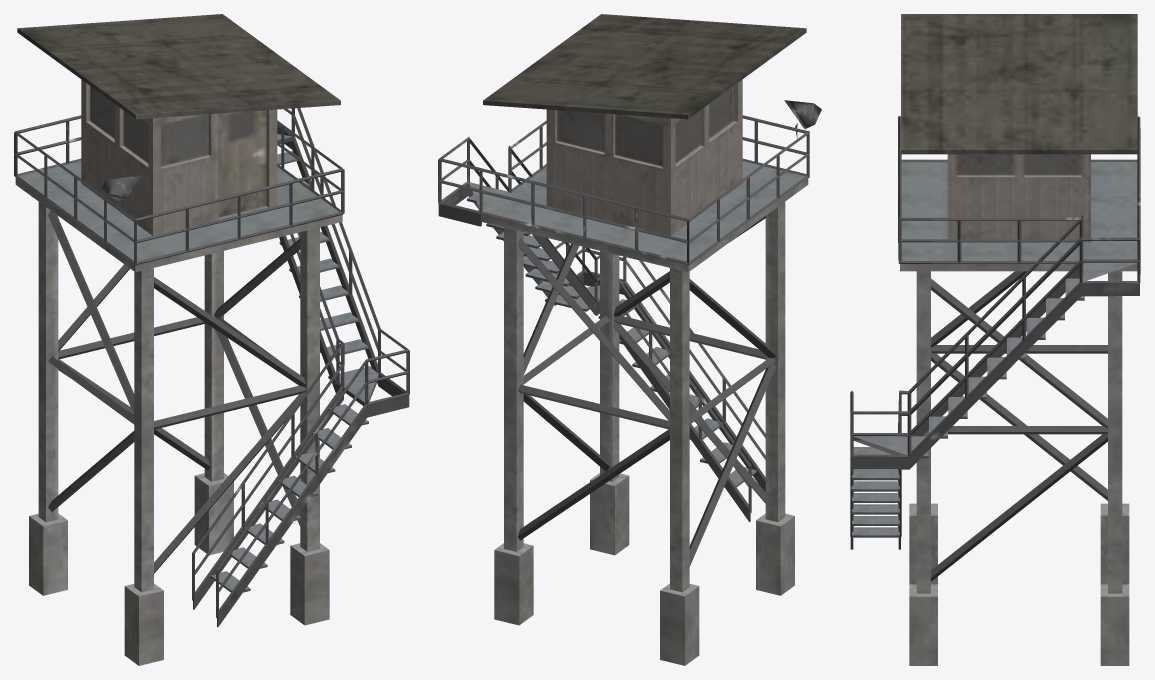
The model's file is guard-tower.access-v7.lod1.glb.
3 views of the same model, side by side, from view 1: azimuth 30°, elevation 25°; view 2: azimuth 150°, elevation 25°; view 3: azimuth 270°, elevation 25° (orthographic).
Visible parts, largest first — view 1: defaultMaterial; view 2: defaultMaterial; view 3: defaultMaterial.
Part boxes in pixels (box(x1,y1,x2,y2)): defaultMaterial: box(14, 14, 409, 665); defaultMaterial: box(438, 14, 821, 665); defaultMaterial: box(850, 14, 1140, 665).
Bounding box in the file's own units: 4.91 × 9.61 × 4.56.
Materials: 1 (1 with a texture image).
